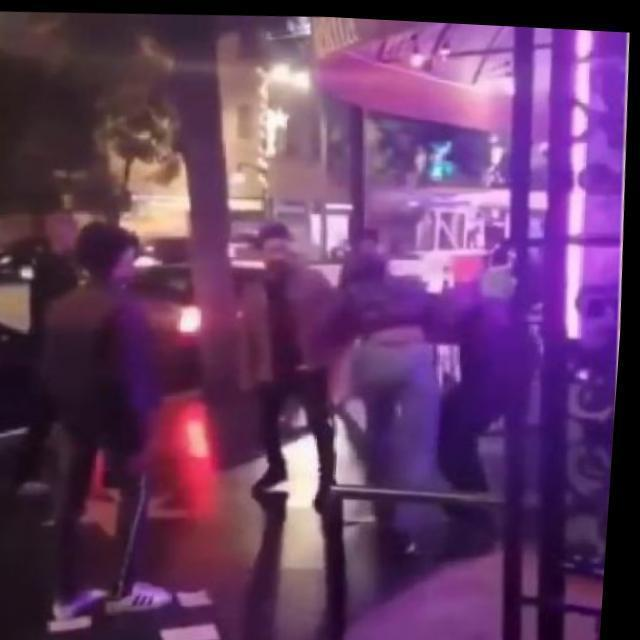fight: (304, 225, 556, 538)
